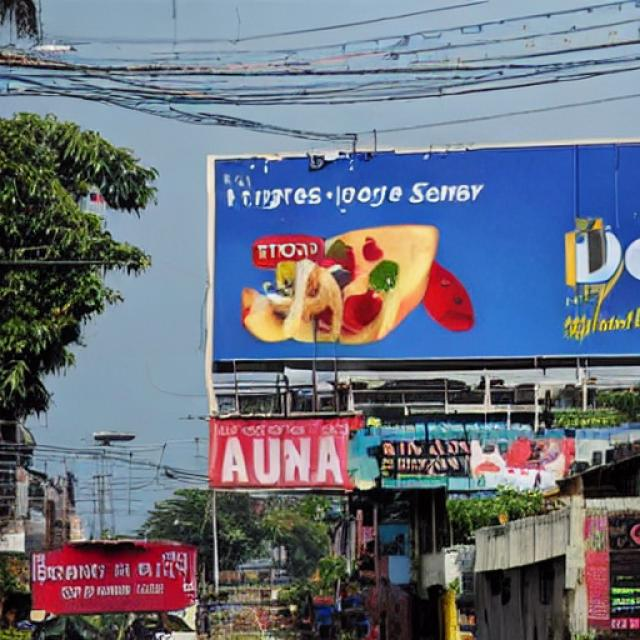Billboard: (202, 135, 640, 380)
